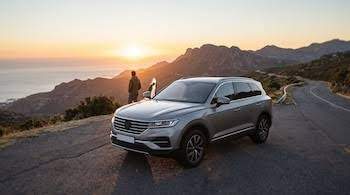car: (112, 77, 278, 169)
